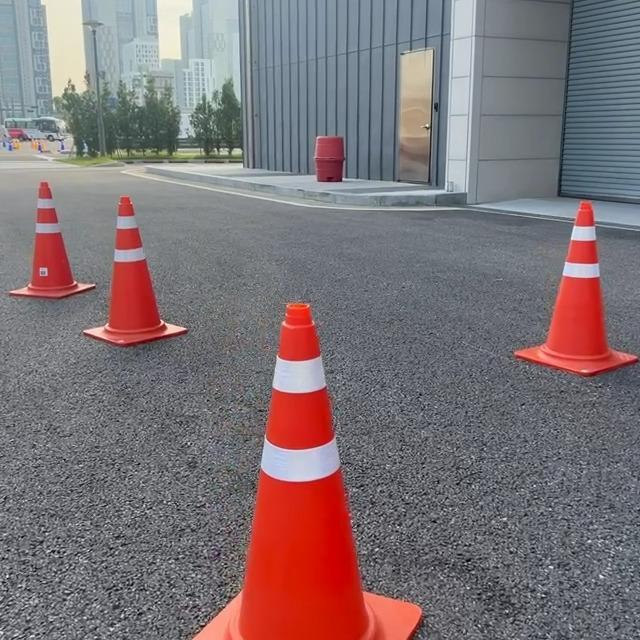fallen_object: (205, 247, 424, 640), (496, 189, 640, 465), (60, 187, 195, 353), (0, 162, 112, 322)
